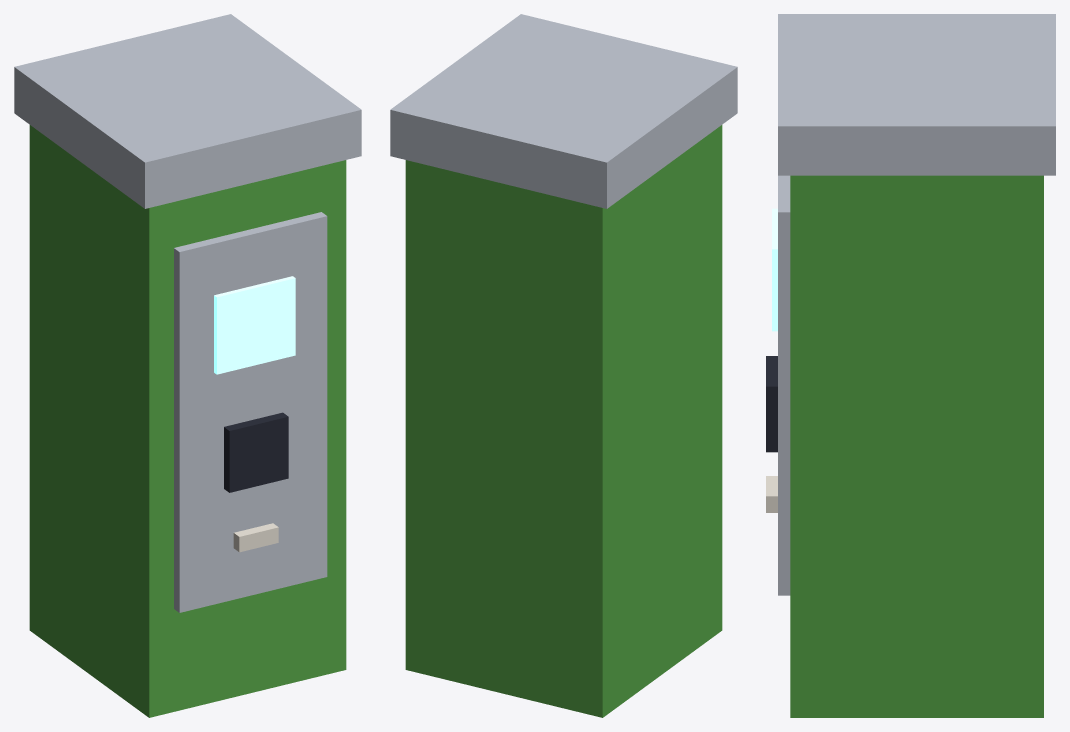
The model's file is bottle-return.glb.
3 renders of one model, left to right at view 1: azimuth 30°, elevation 25°; view 2: azimuth 150°, elevation 25°; view 3: azimuth 270°, elevation 25°, orthographic. The views are drawn at different scales.
Visible parts, largest first — view 1: bottle-return; view 2: bottle-return; view 3: bottle-return.
Boxes of the visible parts, bbox=[...] form: bottle-return: bbox=[14, 14, 361, 717]; bottle-return: bbox=[390, 14, 737, 717]; bottle-return: bbox=[766, 14, 1055, 717].
Bounding box in the file's own units: 0.44 × 1.09 × 0.48.
1 material, 1 textured.
